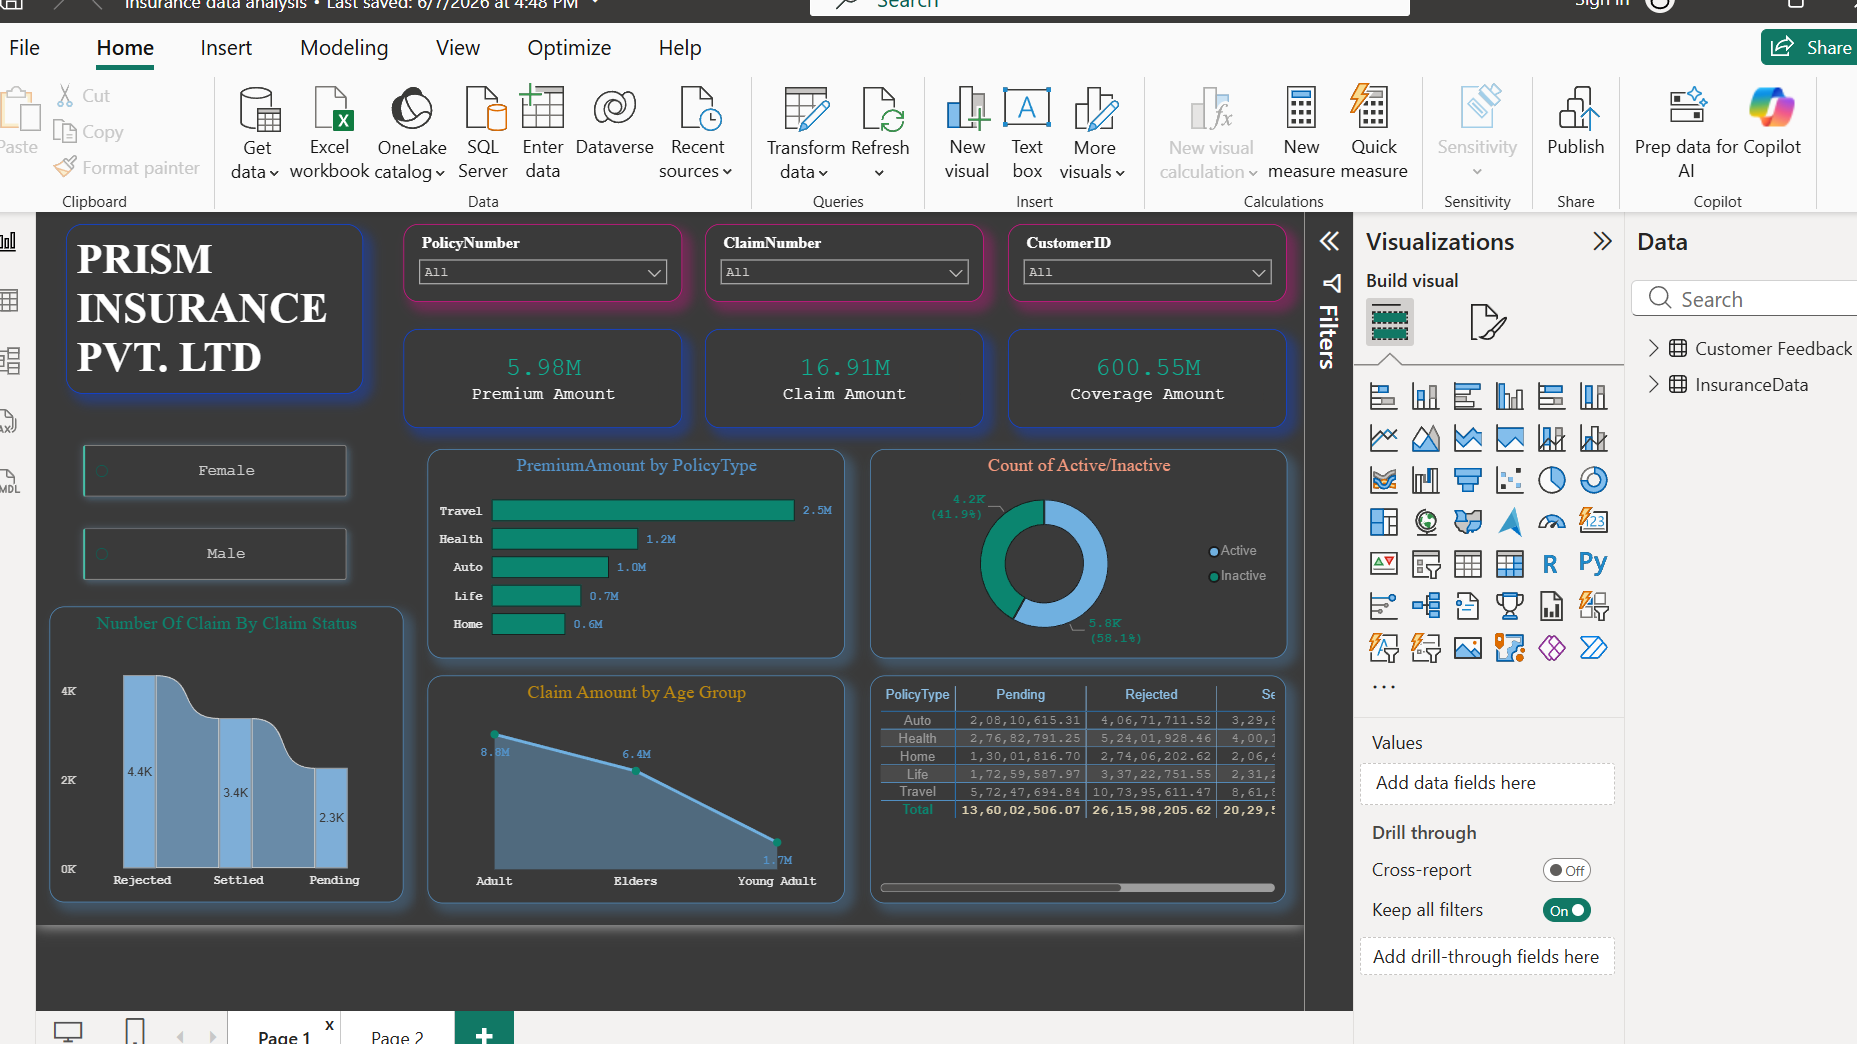

The dashboard page shown, as its layout file describes it:
{"tool":"powerbi","page":{"name":"Page 1","canvas":[1280,720],"ordinal":0},"visuals":[{"type":"slicer","fields":{"Values":["InsuranceData.PolicyNumber"]},"box":[371.4,12.9,281.4,78.6],"z":0},{"type":"slicer","fields":{"Values":["InsuranceData.CustomerID"]},"box":[981.4,12.9,281.4,78.6],"z":1},{"type":"slicer","fields":{"Values":["InsuranceData.ClaimNumber"]},"box":[675.7,12.9,281.4,78.6],"z":2},{"type":"textbox","box":[30,12.9,300,171.4],"z":3},{"type":"cardVisual","fields":{"Data":["Sum(InsuranceData.PremiumAmount)"]},"box":[371.4,118.6,281.4,100],"z":4},{"type":"cardVisual","fields":{"Data":["Sum(InsuranceData.CoverageAmount)"]},"box":[981.4,118.6,281.4,100],"z":5},{"type":"cardVisual","fields":{"Data":["Sum(InsuranceData.ClaimAmount)"]},"box":[675.7,118.6,281.4,100],"z":6},{"type":"advancedSlicerVisual","fields":{"Values":["InsuranceData.Gender"]},"box":[30,218.6,300,171.4],"z":7},{"type":"ribbonChart","title":"Number Of Claim By Claim Status  ","fields":{"Category":["InsuranceData.ClaimStatus"],"Y":["CountNonNull(InsuranceData.ClaimStatus)"]},"box":[14.3,398.6,357.1,298.6],"z":8},{"type":"barChart","title":"PremiumAmount by PolicyType","fields":{"Category":["InsuranceData.PolicyType"],"Y":["Sum(InsuranceData.PremiumAmount)"]},"box":[395.7,238.6,421.4,211.4],"z":9},{"type":"lineChart","title":"Claim Amount by Age Group ","fields":{"Category":["InsuranceData.Age Group "],"Y":["Sum(InsuranceData.ClaimAmount)"]},"box":[395.7,467.1,421.4,230],"z":10},{"type":"donutChart","title":"Count of Active/Inactive","fields":{"Category":["InsuranceData.Active/Inactive"],"Y":["CountNonNull(InsuranceData.Active/Inactive)"]},"box":[841.4,238.6,421.4,211.4],"z":11},{"type":"pivotTable","fields":{"Columns":["InsuranceData.ClaimStatus"],"Rows":["InsuranceData.PolicyType"],"Values":["Sum(InsuranceData.CoverageAmount)"]},"box":[841.4,467.1,420,230],"z":12}]}

Visuals, with their boxes on the page's 1280x720 design canvas (x1, y1, x2, y2). These are canvas units, not pixel positions in the 1857x1044 screenshot, which may show the page scaled, cropped or inside an application window:
slicer - InsuranceData.PolicyNumber: BBox(371, 13, 653, 92)
slicer - InsuranceData.CustomerID: BBox(981, 13, 1263, 92)
slicer - InsuranceData.ClaimNumber: BBox(676, 13, 957, 92)
textbox: BBox(30, 13, 330, 184)
cardVisual - Sum(InsuranceData.PremiumAmount): BBox(371, 119, 653, 219)
cardVisual - Sum(InsuranceData.CoverageAmount): BBox(981, 119, 1263, 219)
cardVisual - Sum(InsuranceData.ClaimAmount): BBox(676, 119, 957, 219)
advancedSlicerVisual - InsuranceData.Gender: BBox(30, 219, 330, 390)
"Number Of Claim By Claim Status  " ribbonChart: BBox(14, 399, 371, 697)
"PremiumAmount by PolicyType" barChart: BBox(396, 239, 817, 450)
"Claim Amount by Age Group " lineChart: BBox(396, 467, 817, 697)
"Count of Active/Inactive" donutChart: BBox(841, 239, 1263, 450)
pivotTable - InsuranceData.ClaimStatus x InsuranceData.PolicyType: BBox(841, 467, 1261, 697)
